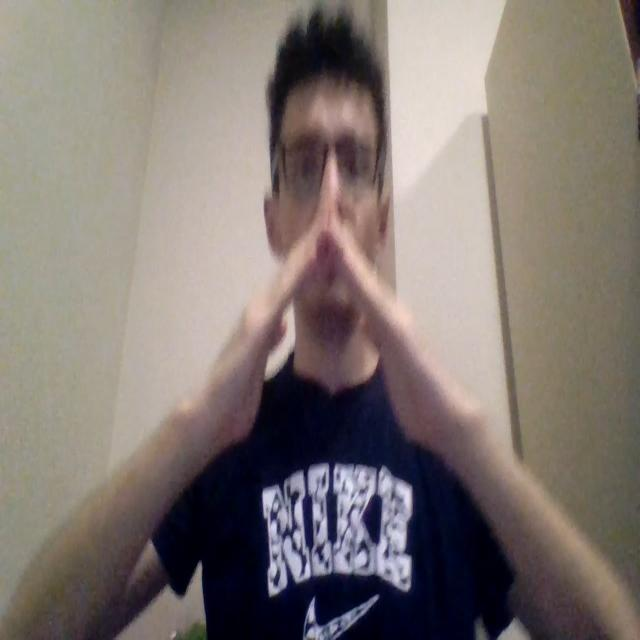house: (191, 215, 455, 456)
